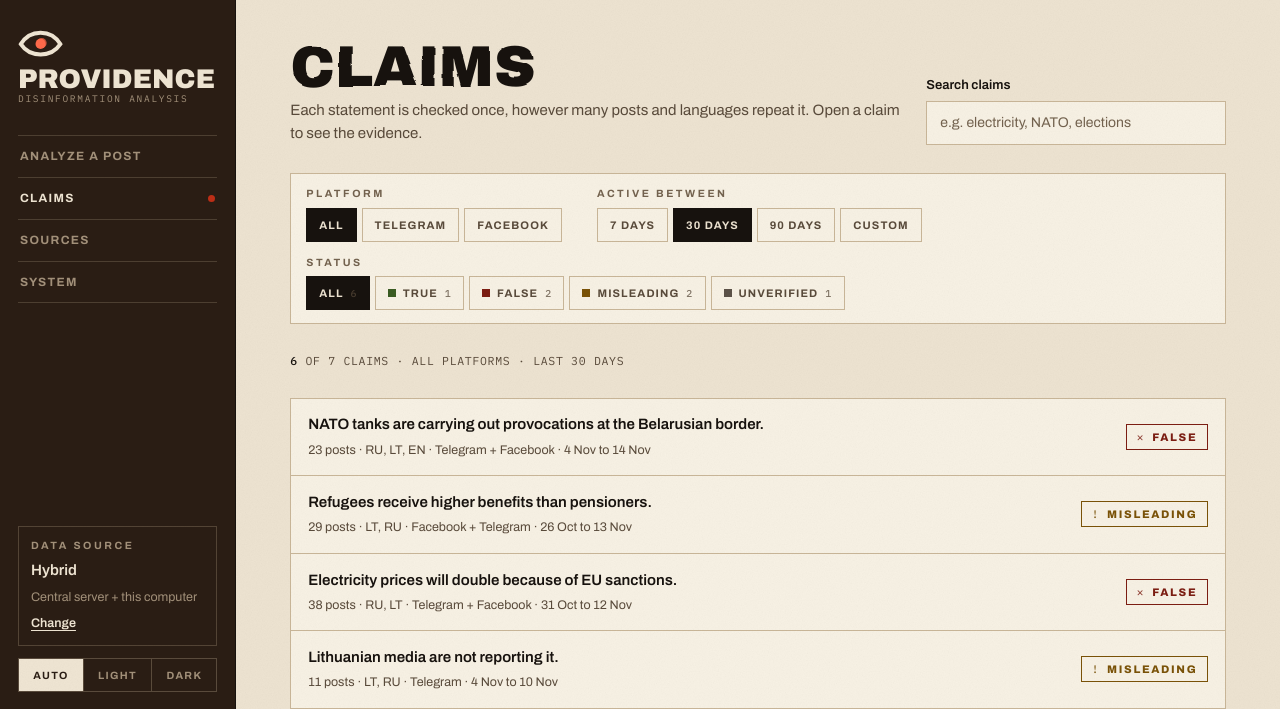
Test: Claims › status chips show counts and filter
This screenshot has width=1280, height=709.
Check: the button "False 2" is shown, box [469,276,564,310]
Check: the button "True 1" is shown, box [375,276,464,310]
Click the button "Misleading 2" at (637, 294), box [569,276,706,310]
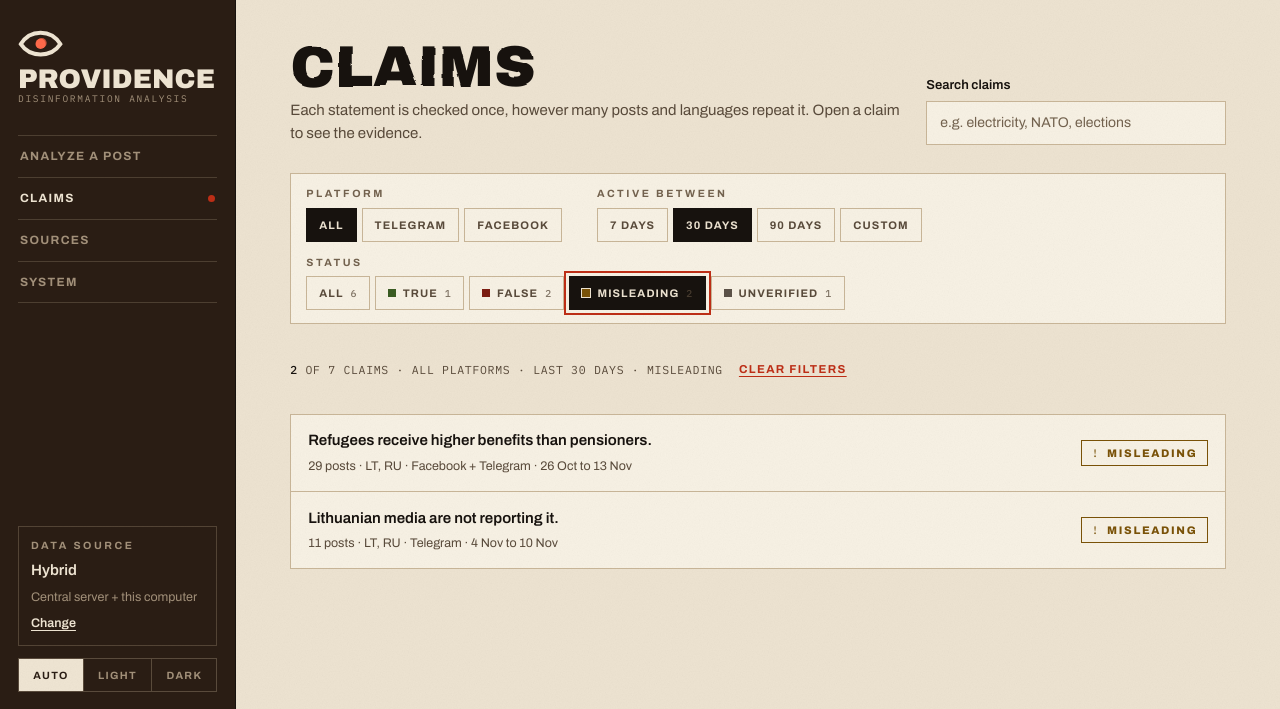
Check: the element with class "fsummary" shows "2 of 7 claims · all platforms · last 30 days · misleading", box [290,352,849,386]
